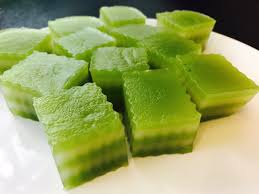kanomchan: (30, 78, 134, 192), (121, 66, 201, 157), (1, 49, 98, 124), (175, 42, 259, 128)
